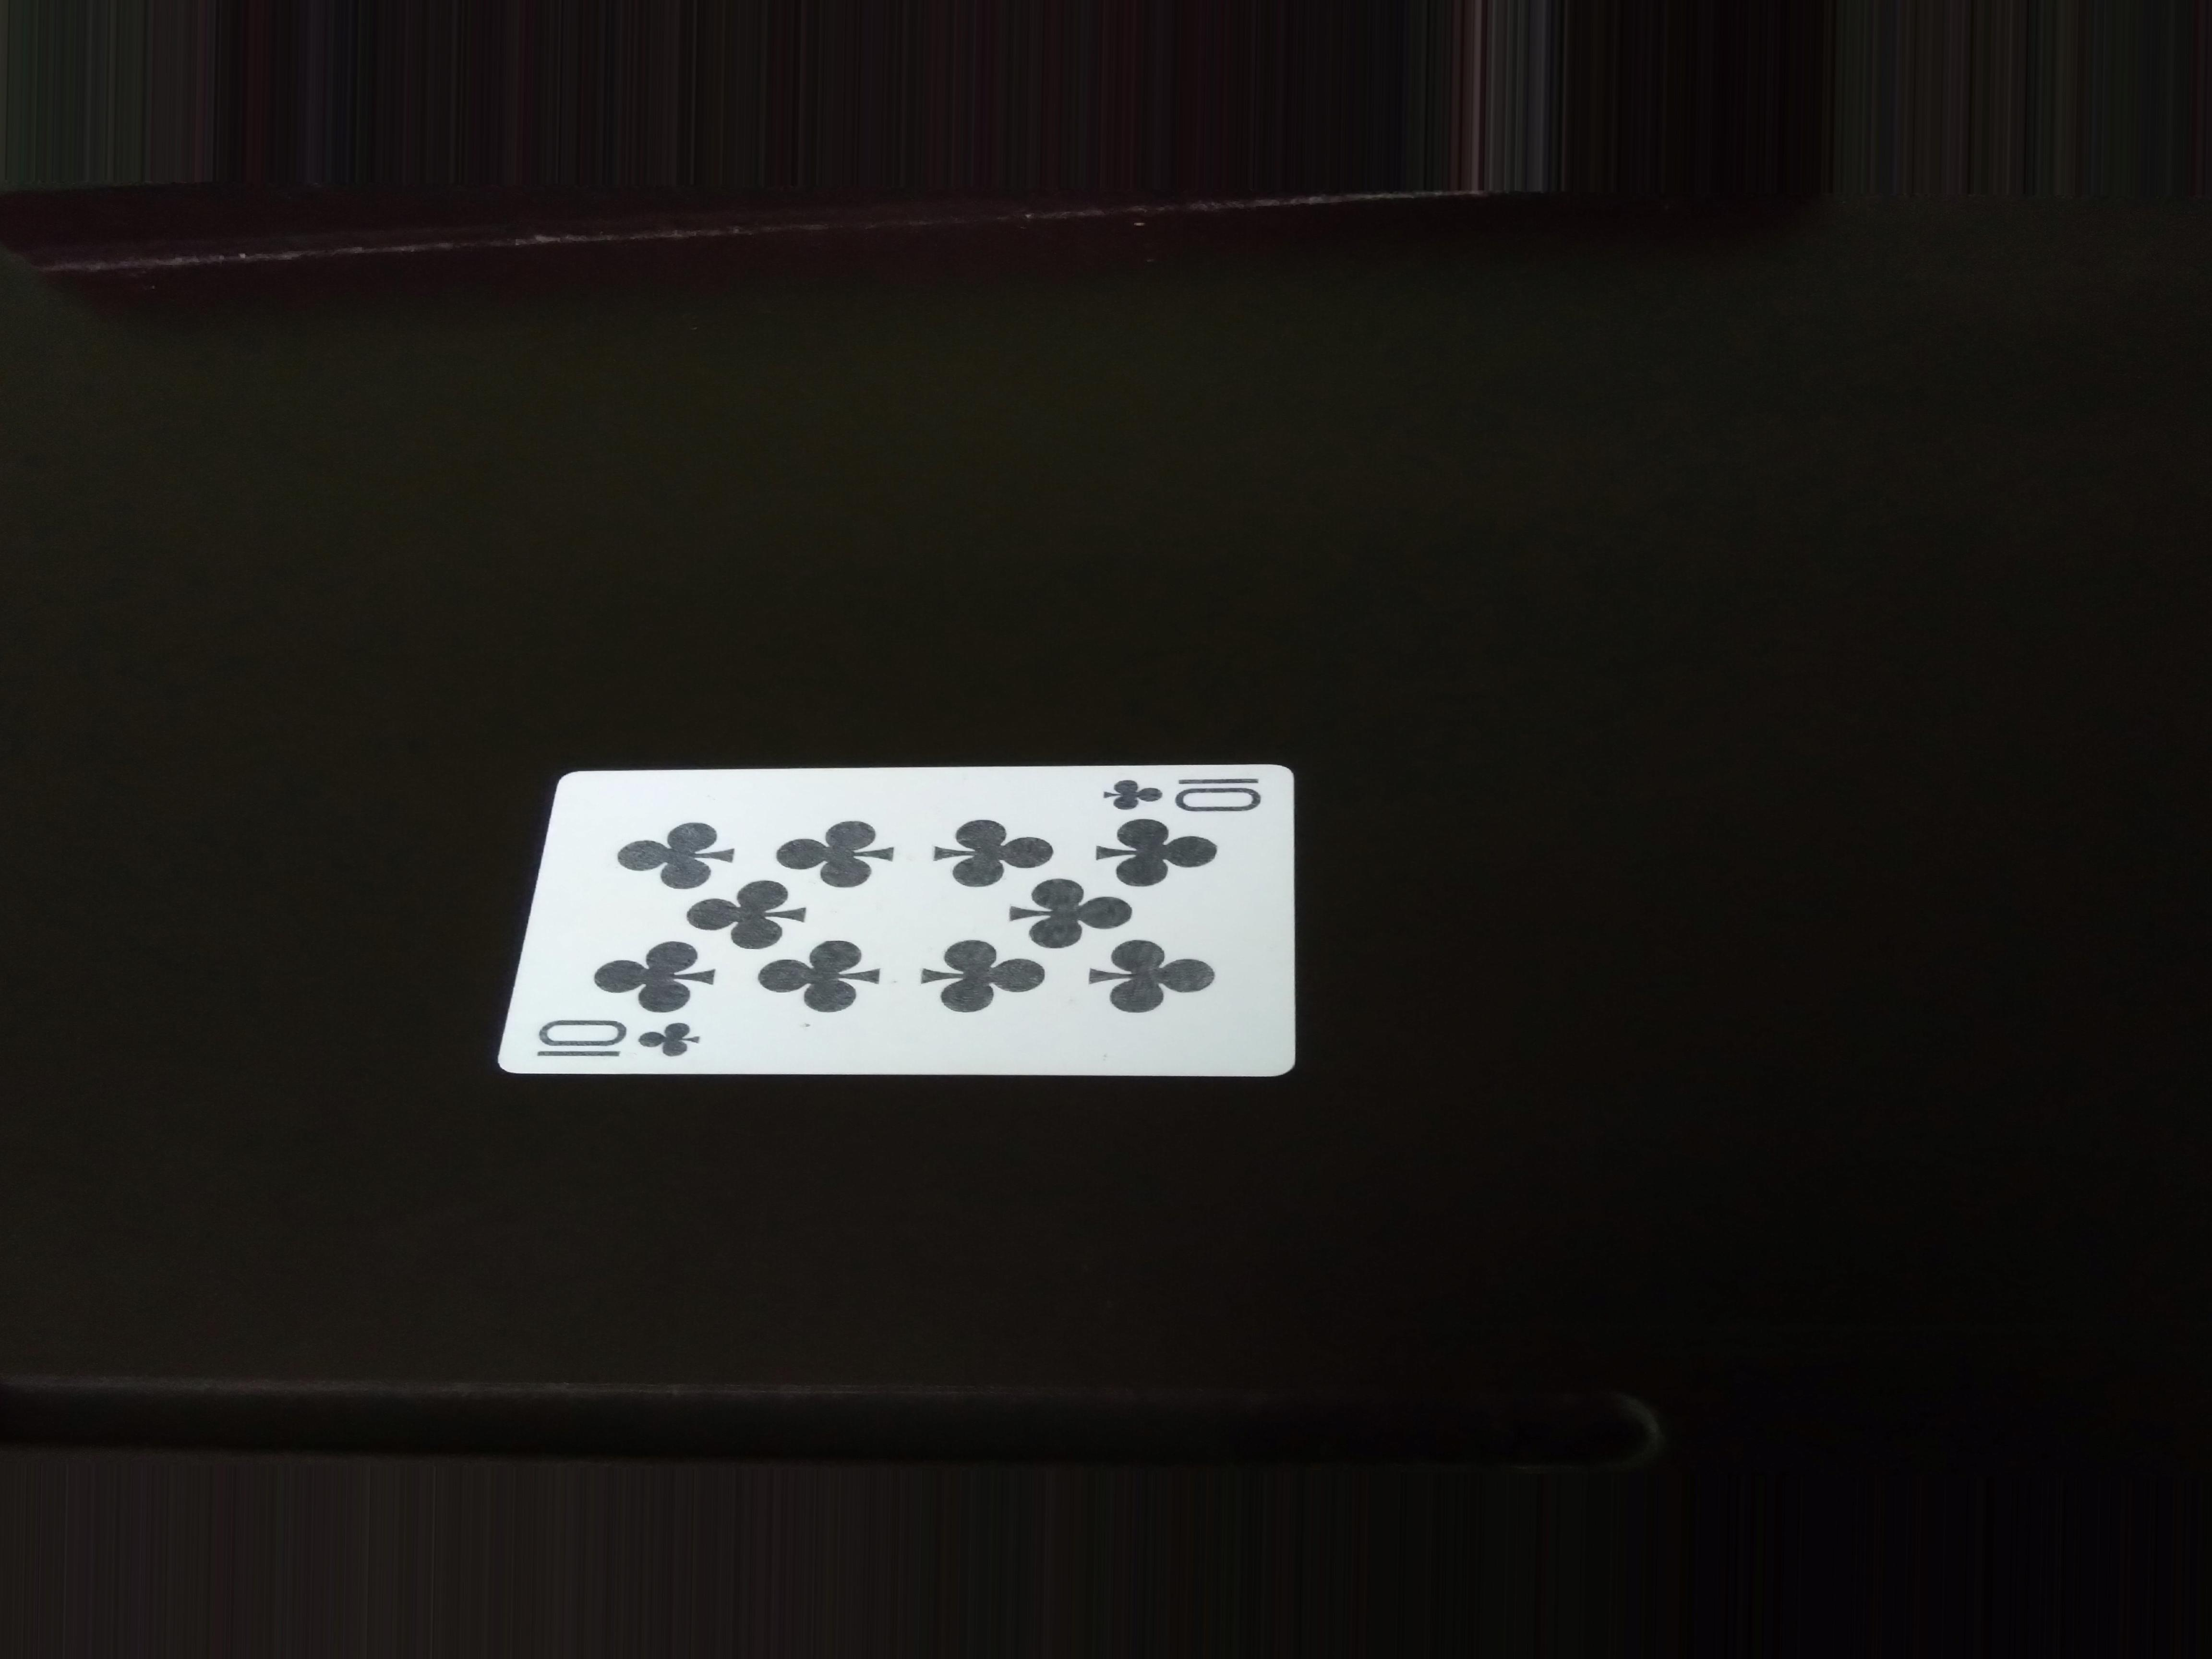10C: (519, 1014, 705, 1075)
